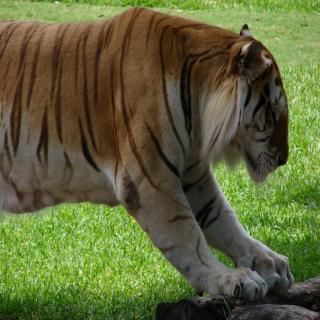Tiger: (0, 6, 289, 302)
